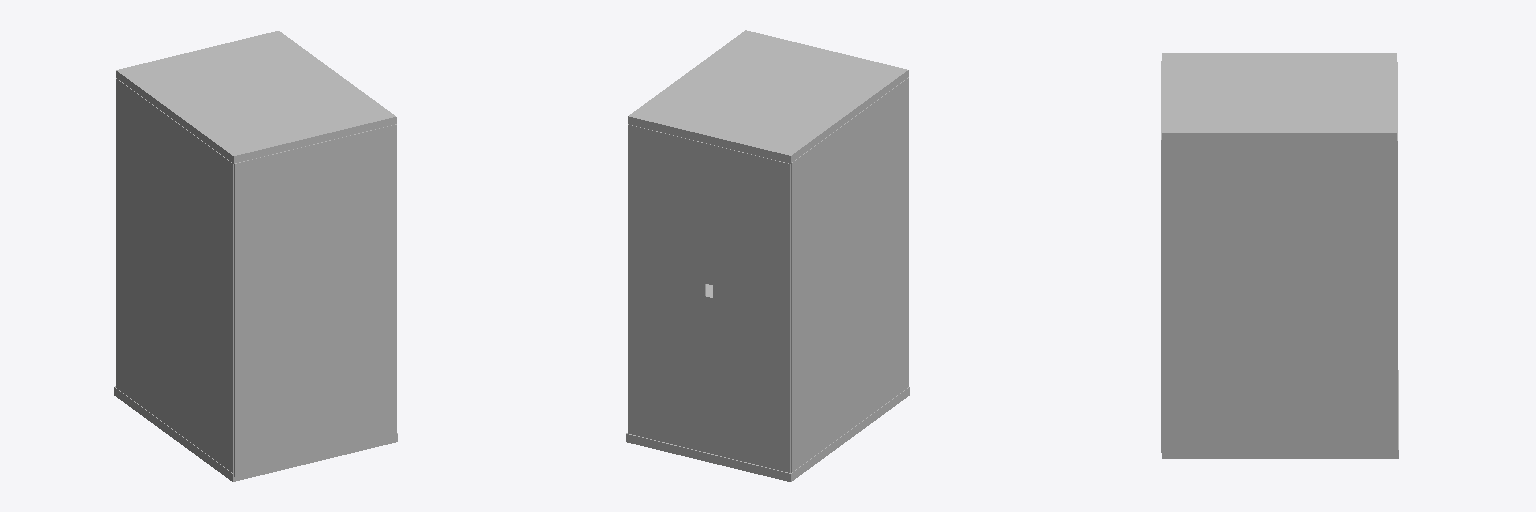
The model's file is tfroom.obj.
3 views of the same model, side by side, from view 1: azimuth 30°, elevation 25°; view 2: azimuth 150°, elevation 25°; view 3: azimuth 270°, elevation 25° (orthographic).
Visible parts, largest first — view 1: Cube.004; view 2: Cube.004; view 3: Cube.004.
Part boxes in pixels (x1,y1,x2,y2): Cube.004: (114, 31, 397, 481); Cube.004: (626, 30, 909, 481); Cube.004: (1161, 53, 1398, 458).
Bounding box in the file's own units: 40.57 × 76.55 × 50.71.